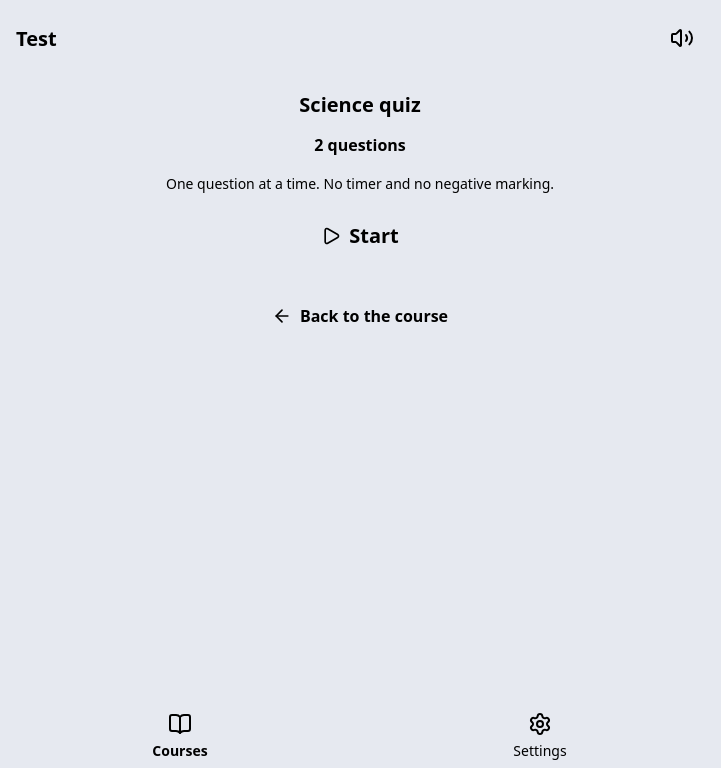
Test case: home routes inside the Shell › the Test route of a course with a test opens the game intro inside the Shell, and Back returns to the course
This screenshot has width=721, height=768.
Expected: the heading "Science quiz" is shown, 299,92 -> 421,117
Expected: the text "2 questions" is shown, 314,133 -> 406,157
Click the button "Back to the course" at (360,316), box 16,294 -> 704,338
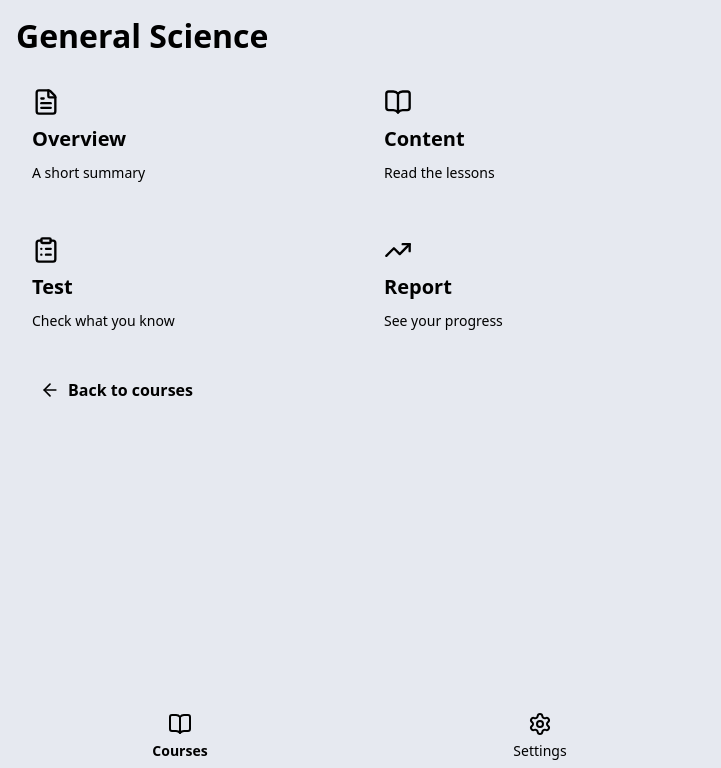
Now the heading "General Science" is shown, box 16,14 -> 268,57
